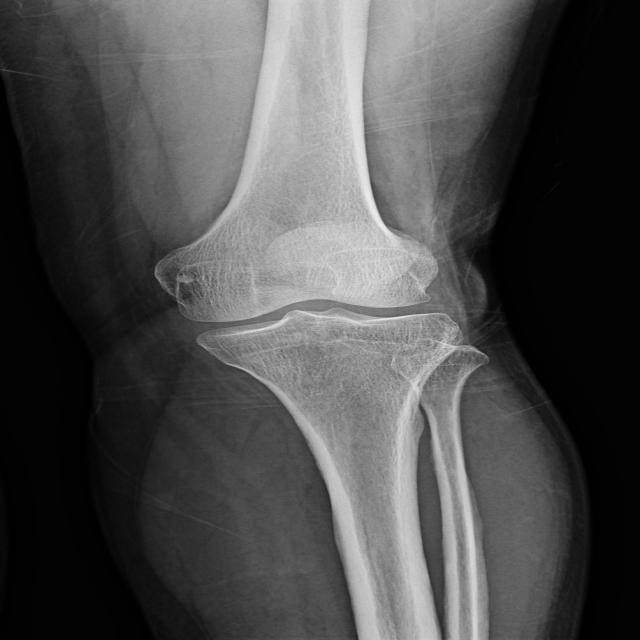osteo: (144, 230, 459, 344)
